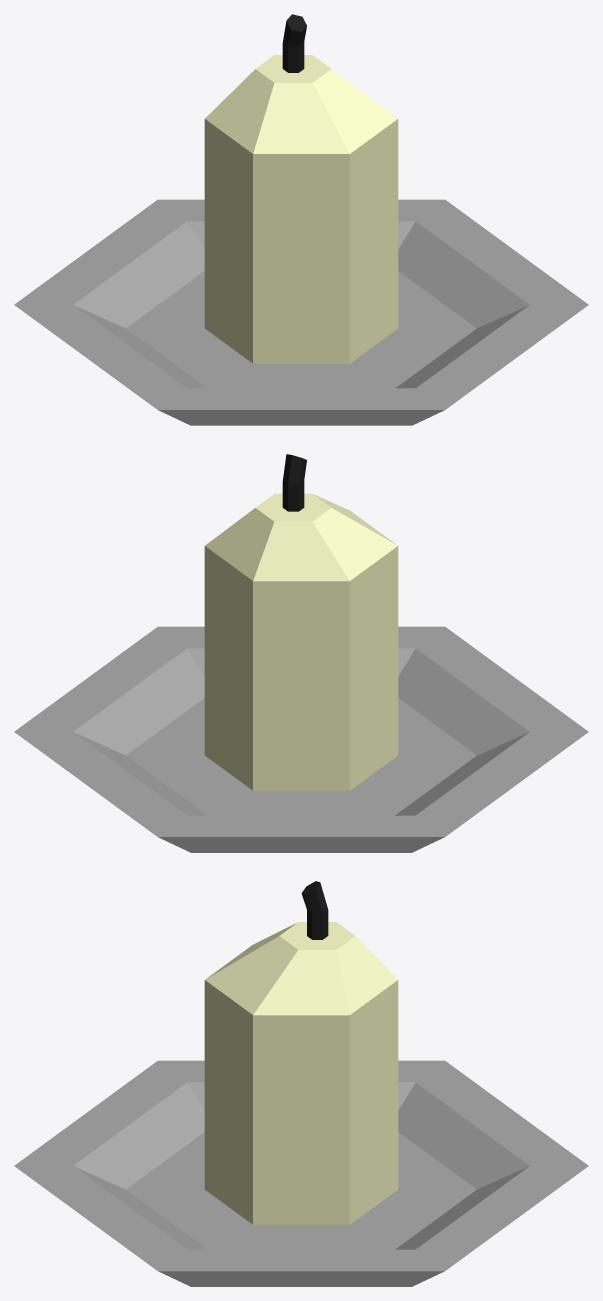
The model's file is candle.gltf.
The picture shows the model from 3 angles, top to bottom: view 1: azimuth 30°, elevation 25°; view 2: azimuth 150°, elevation 25°; view 3: azimuth 270°, elevation 25°; orthographic projection.
Parts seen in each view (by area): view 1: Cylinder, Cylinder.001; view 2: Cylinder, Cylinder.001; view 3: Cylinder, Cylinder.001.
Part boxes in pixels (bbox=[...]): Cylinder: bbox=[14, 199, 588, 425]; Cylinder.001: bbox=[204, 14, 398, 363]; Cylinder: bbox=[14, 626, 588, 852]; Cylinder.001: bbox=[204, 454, 398, 790]; Cylinder: bbox=[14, 1060, 588, 1286]; Cylinder.001: bbox=[204, 881, 398, 1224].
Bounding box in the file's own units: 2.25 × 1.62 × 2.6.
